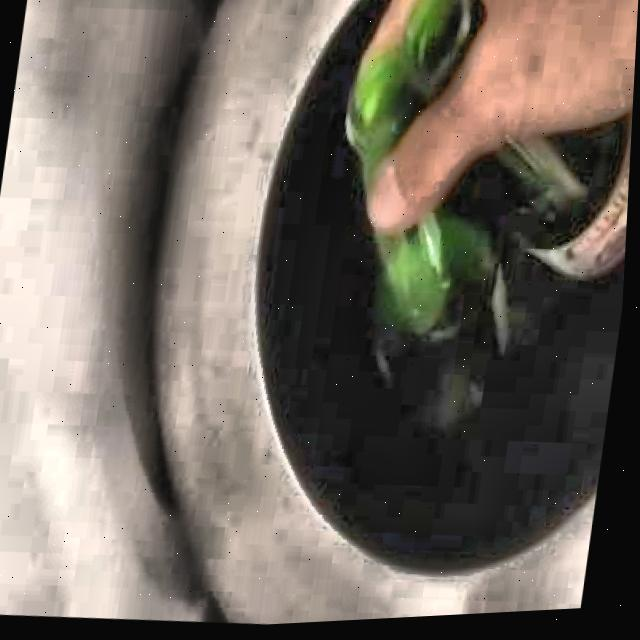glass: (378, 199, 510, 429), (348, 0, 487, 195), (498, 118, 634, 285)
